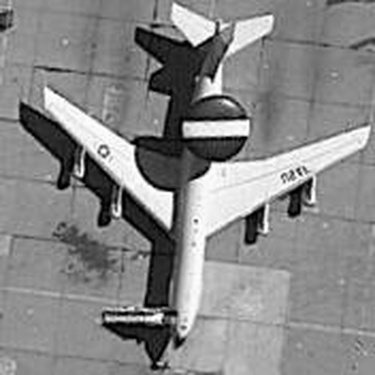airplane: (23, 1, 370, 359)
